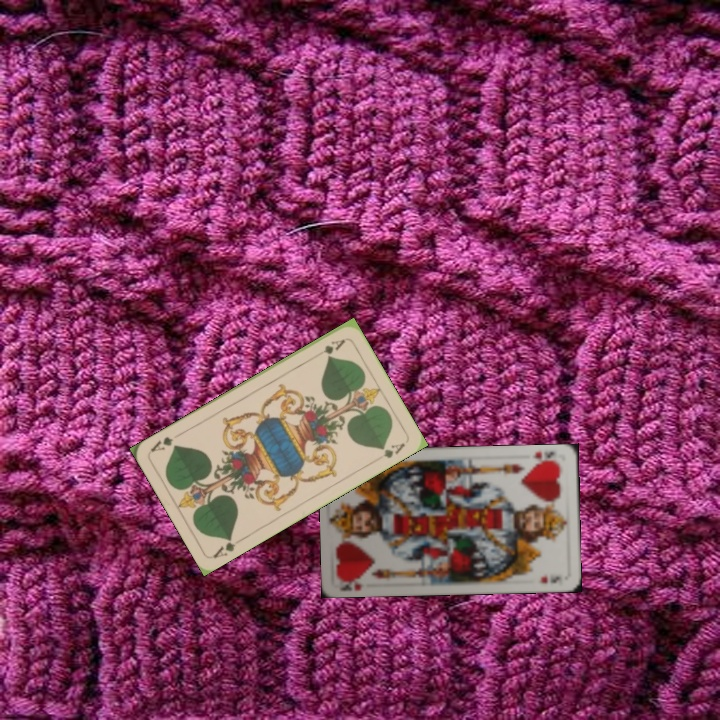GA: (209, 533, 246, 561), (311, 335, 348, 360)
HK: (336, 573, 367, 593), (528, 448, 557, 467)
